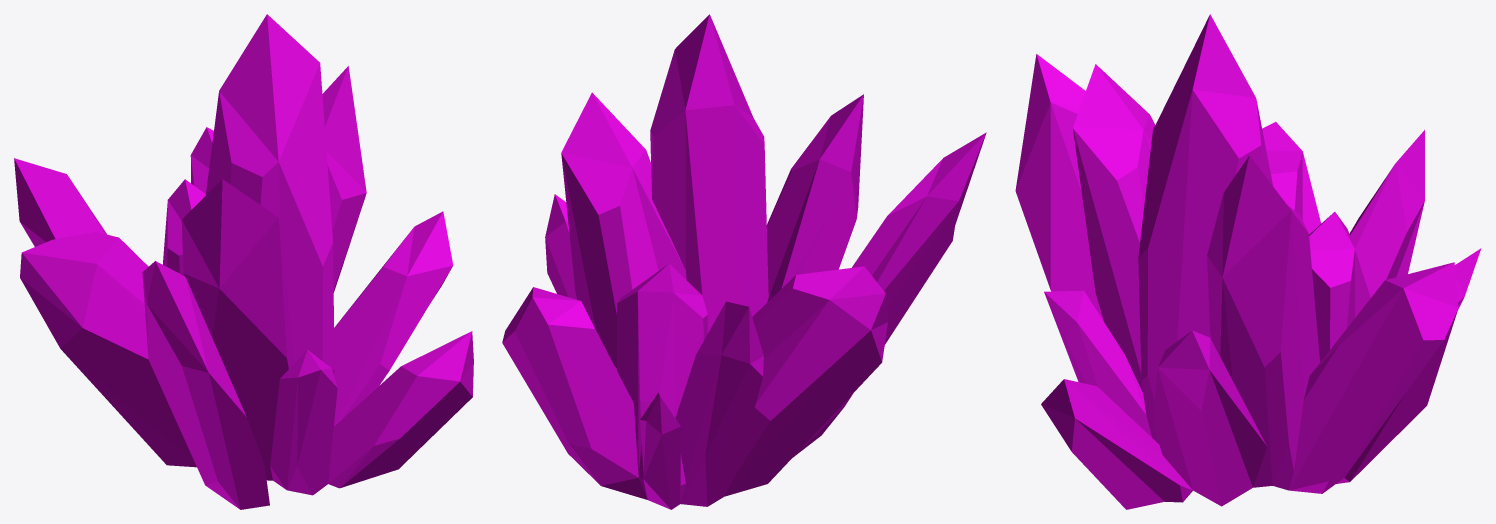
Rendered from pinkmal.fbx.
3 renders of one model, left to right at view 1: azimuth 30°, elevation 25°; view 2: azimuth 150°, elevation 25°; view 3: azimuth 270°, elevation 25°, orthographic. The views are drawn at different scales.
Parts seen in each view (by area): view 1: Cube.006; view 2: Cube.006; view 3: Cube.006.
Part boxes in pixels (x1=…): Cube.006: x1=14, y1=14, x2=473, y2=509; Cube.006: x1=502, y1=14, x2=986, y2=509; Cube.006: x1=1015, y1=14, x2=1481, y2=509.
Size of the model in its own units: 330 by 368 by 344.
